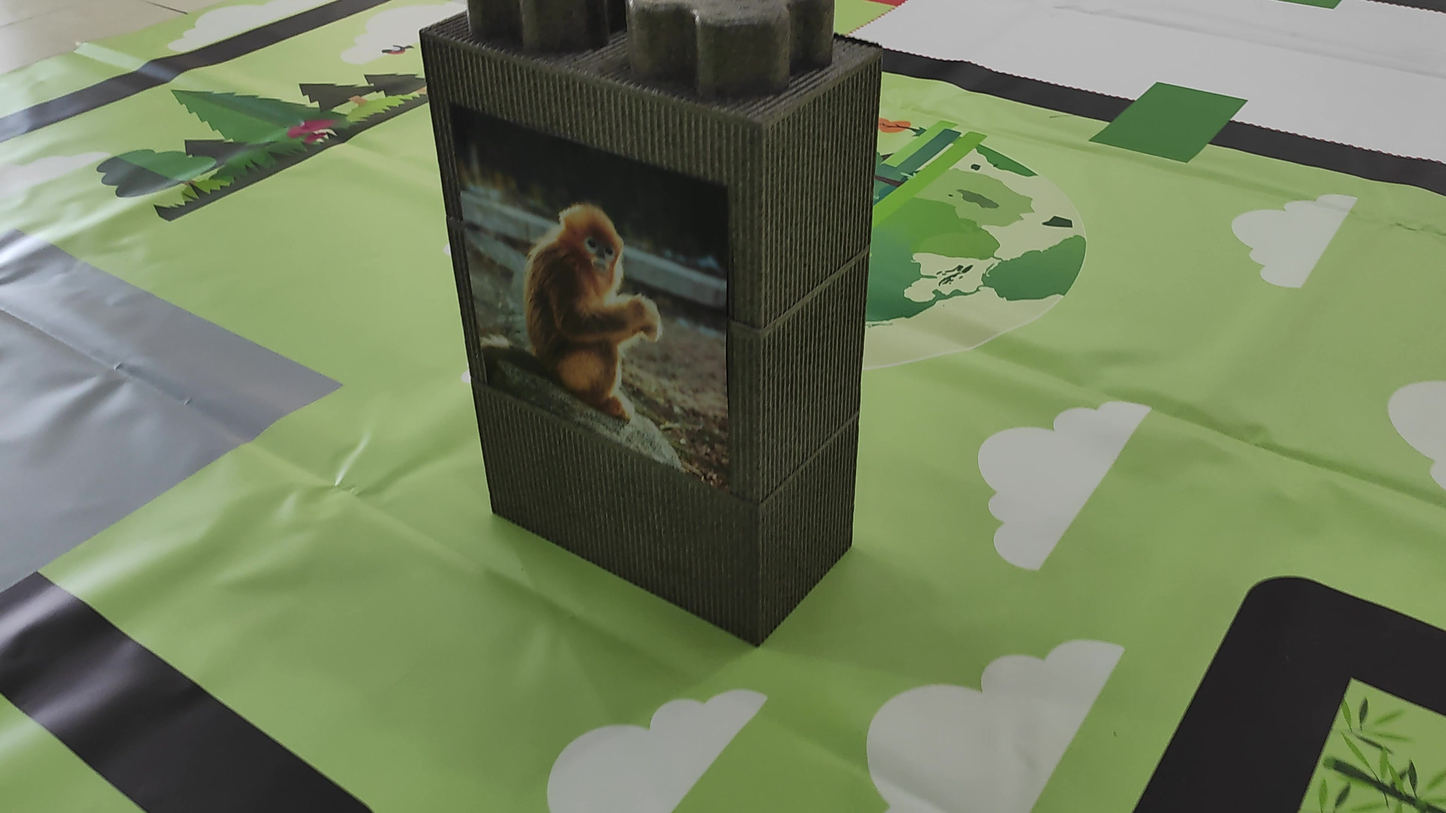monkey: (482, 175, 706, 439)
